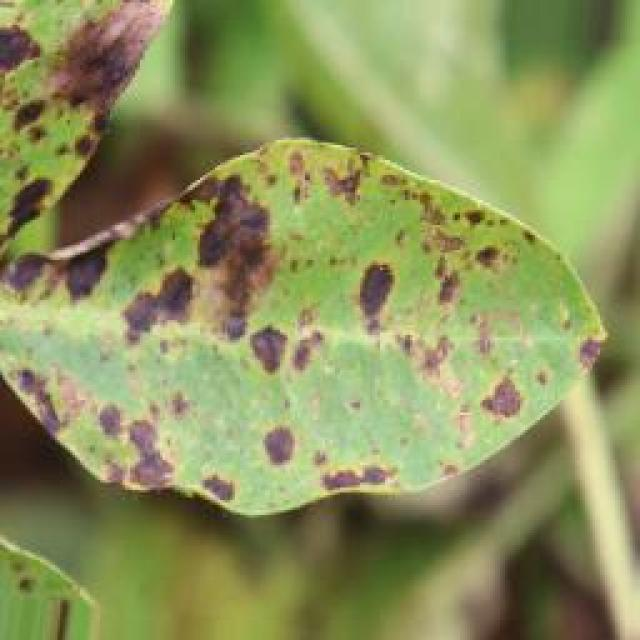Yellowish: (0, 0, 610, 595)
